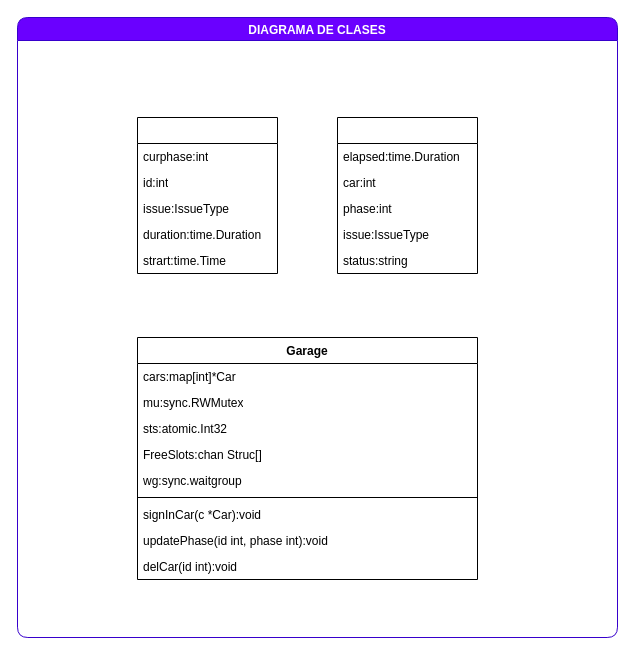
Image size: 635x655. Some labels were removed from this diagram. Each missing label, with the box of its shape:
Car: (136, 116, 278, 274)
Event: (336, 116, 478, 274)
